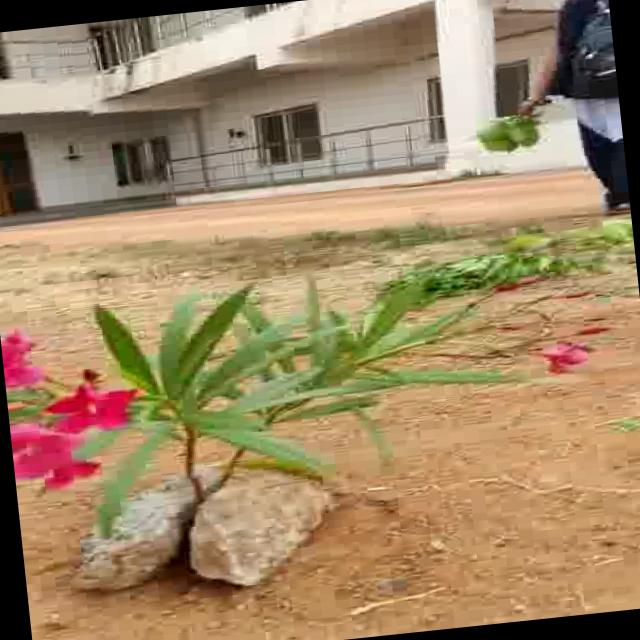Oleander: (14, 232, 626, 507)
